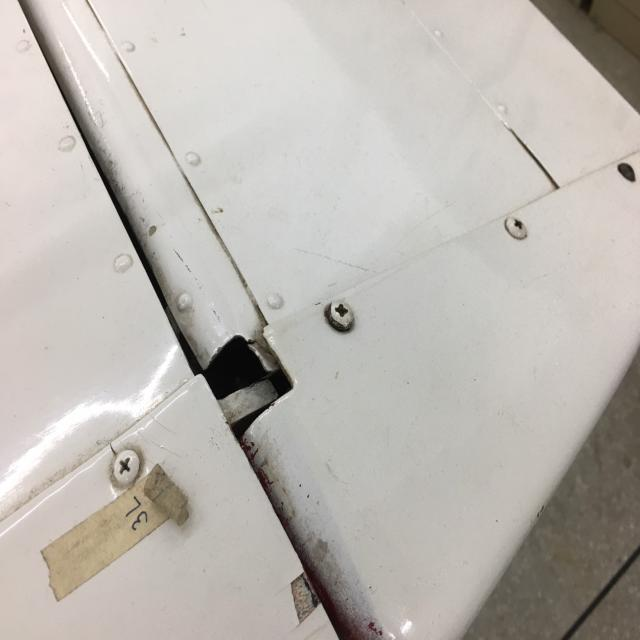Rupture: (253, 563, 334, 627), (106, 418, 174, 460), (143, 208, 159, 245)
